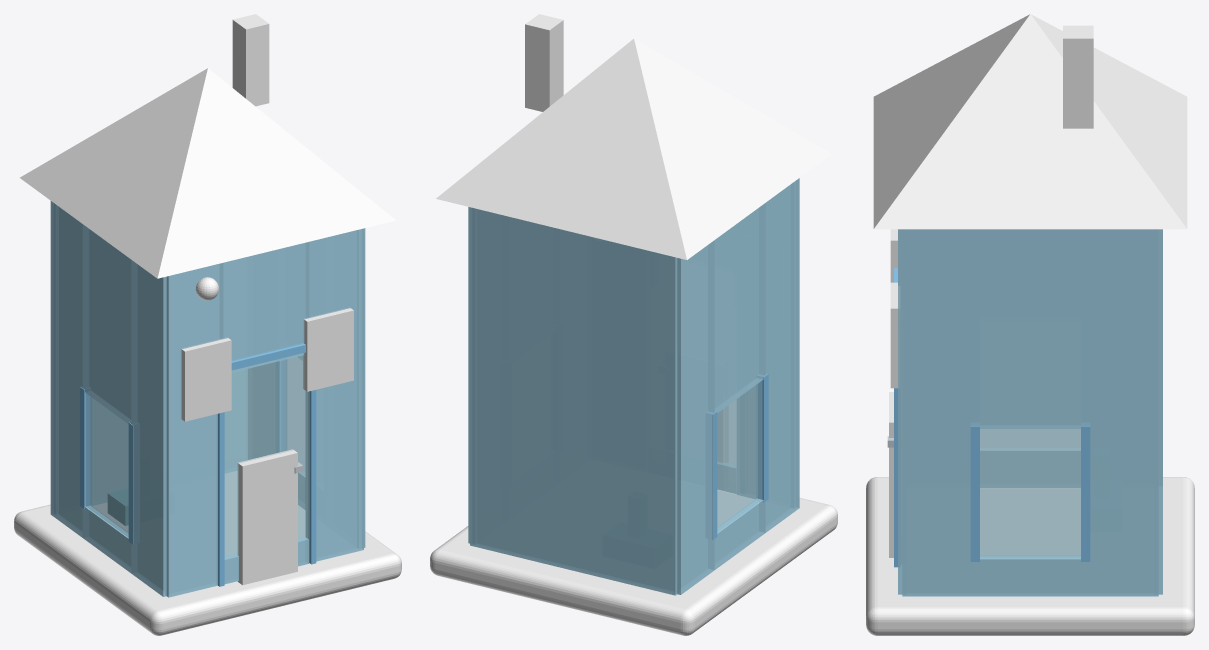
File: townhouse.glb
3 renders of one model, left to right at view 1: azimuth 30°, elevation 25°; view 2: azimuth 150°, elevation 25°; view 3: azimuth 270°, elevation 25°, orthographic. The views are drawn at different scales.
Parts seen in each view (by area): view 1: Original_roof, Original_stone, Shell_Front_Side_-1, Shell_Front_Side_1, Shell_Side_-1_End_1, Shell_Side_-1_End_-1, Door_Main_Glass, Shell_Front_Header, Shell_Side_-1_Header, Original_accent, Shell_Back, Window_Right_Glass (+16 smaller); view 2: Shell_Back, Original_roof, Original_stone, Shell_Side_-1_End_-1, Shell_Side_-1_End_1, Shell_Side_-1_Header, Window_Right_Glass, Original_metal, Shell_Side_-1_Sill, Shell_Front_Side_-1, WindowFrame_-1_1, WindowFrame_-1_-1 (+5 smaller); view 3: Original_roof, Shell_Side_1_End_-1, Shell_Side_1_End_1, Shell_Side_1_Header, Original_stone, Window_Left_Glass, Walkable_Interior_Floor, Shell_Side_1_Sill, Shell_Side_-1_Sill, Original_metal, Window_Right_Glass, Shell_Front_Side_1 (+6 smaller).
Part boxes in pixels (left/top/right/bottom): Original_roof: left=20, top=68, right=395, bottom=278; Original_stone: left=14, top=504, right=401, bottom=635; Shell_Front_Side_-1: left=165, top=263, right=223, bottom=597; Shell_Front_Side_1: left=306, top=228, right=363, bottom=563; Shell_Side_-1_End_1: left=131, top=260, right=169, bottom=596; Shell_Side_-1_End_-1: left=50, top=201, right=82, bottom=537; Door_Main_Glass: left=224, top=355, right=308, bottom=559; Shell_Front_Header: left=223, top=242, right=309, bottom=372; Shell_Side_-1_Header: left=82, top=224, right=131, bottom=423; Original_accent: left=237, top=449, right=297, bottom=585; Shell_Back: left=54, top=369, right=247, bottom=513; Window_Right_Glass: left=86, top=393, right=128, bottom=536; Shell_Back: left=470, top=207, right=678, bottom=595; Original_roof: left=436, top=38, right=831, bottom=259; Original_stone: left=430, top=490, right=837, bottom=635; Shell_Side_-1_End_-1: left=674, top=240, right=714, bottom=594; Shell_Side_-1_End_1: left=765, top=178, right=799, bottom=532; Shell_Side_-1_Header: left=714, top=203, right=765, bottom=412; Window_Right_Glass: left=717, top=381, right=761, bottom=531; Original_metal: left=525, top=14, right=563, bottom=111; Shell_Side_-1_Sill: left=714, top=498, right=765, bottom=569; Shell_Front_Side_-1: left=737, top=385, right=794, bottom=507; WindowFrame_-1_1: left=756, top=374, right=768, bottom=502; WindowFrame_-1_-1: left=706, top=411, right=717, bottom=539; Original_roof: left=873, top=14, right=1187, bottom=229; Shell_Side_1_End_-1: left=1085, top=229, right=1158, bottom=596; Shell_Side_1_End_1: left=902, top=229, right=975, bottom=596; Shell_Side_1_Header: left=975, top=229, right=1085, bottom=428; Original_stone: left=866, top=477, right=1194, bottom=635; Window_Left_Glass: left=980, top=429, right=1080, bottom=558; Walkable_Interior_Floor: left=980, top=488, right=1080, bottom=555; Shell_Side_1_Sill: left=975, top=556, right=1085, bottom=596; Shell_Side_-1_Sill: left=980, top=450, right=1080, bottom=487; Original_metal: left=1063, top=25, right=1093, bottom=128; Window_Right_Glass: left=980, top=429, right=1080, bottom=449; Shell_Front_Side_1: left=898, top=229, right=905, bottom=594.
Bounding box in the file's own units: 1.72 × 3.31 × 1.72.
